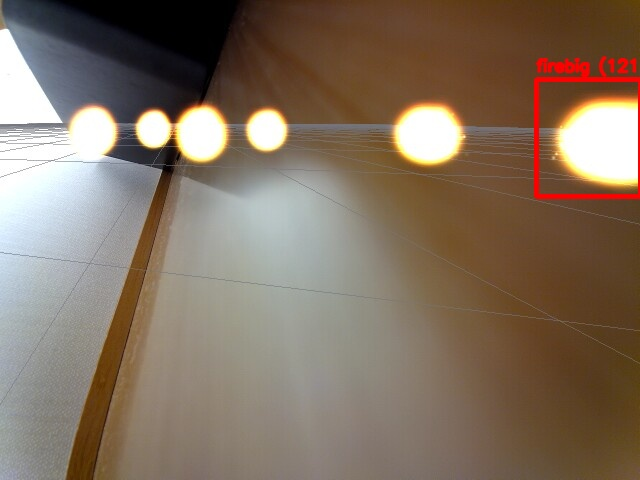firebig: (536, 79, 640, 196)
